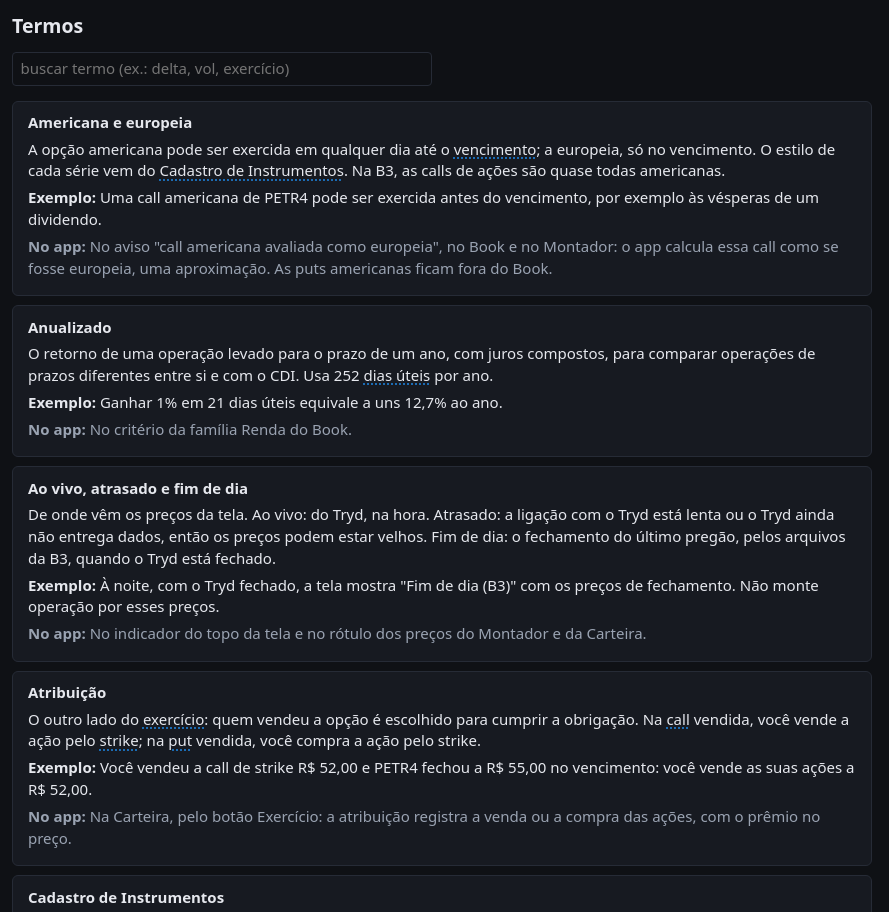
sem resultado, avisa que nenhum termo foi encontrado
In the search field labelled "buscar termo": (222, 69) [12,52,432,86], type "xyzzy"
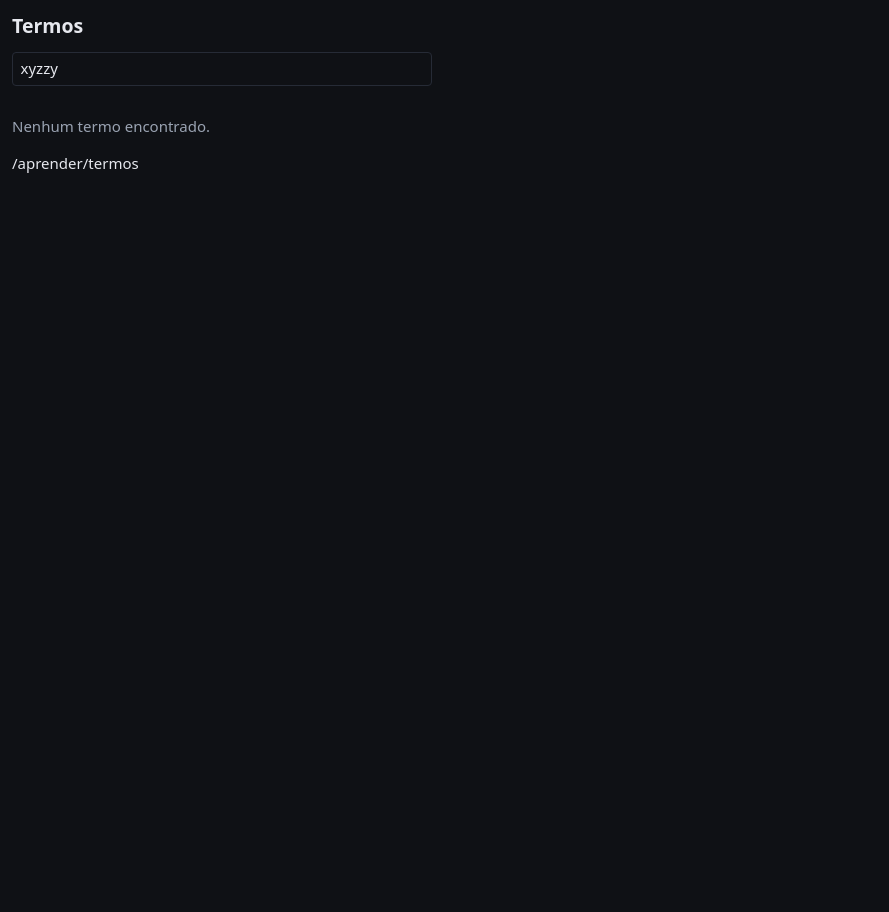
Check: the text "Nenhum termo encontrado." is shown, box [12,116,210,136]
Check: no the heading "Americana e europeia" are shown
